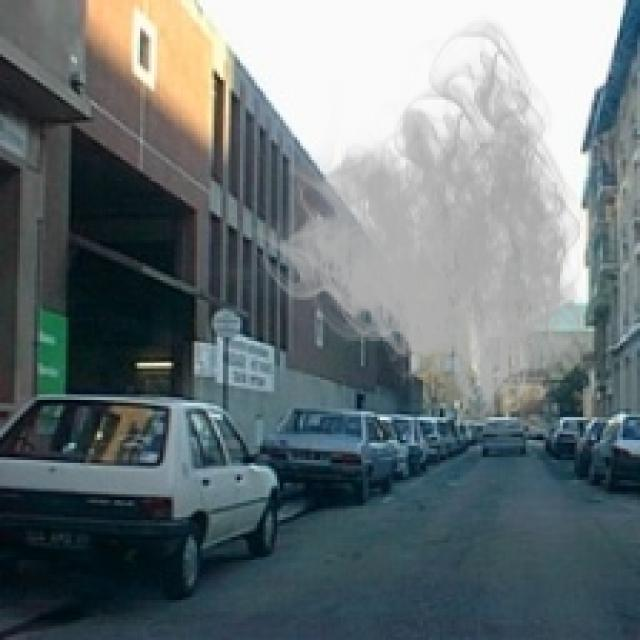smoke: (251, 14, 606, 434)
